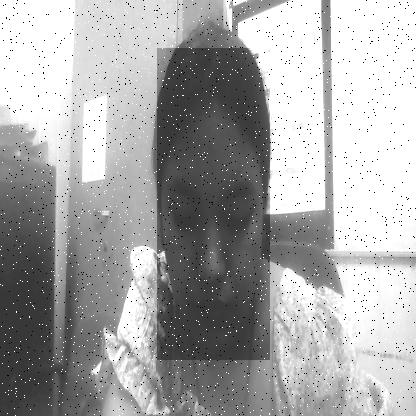Normal: (157, 48, 270, 360)
